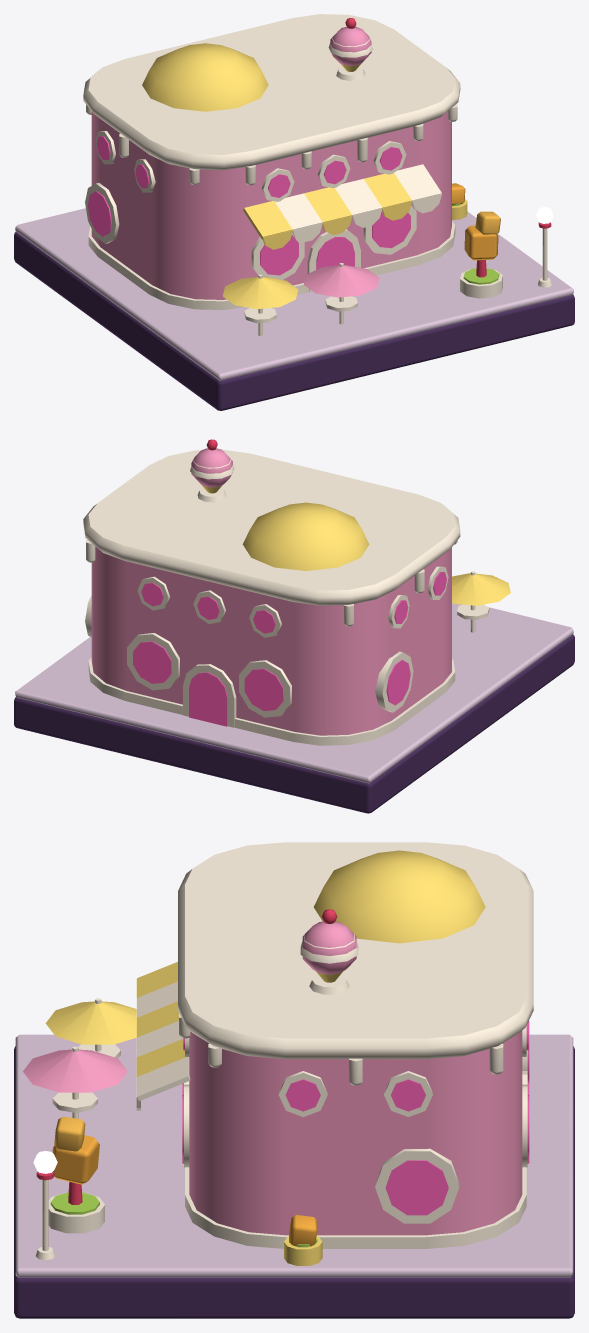
File: modern_building_3_1Level_Demo.glb
3 renders of one model, top to bottom at view 1: azimuth 30°, elevation 25°; view 2: azimuth 150°, elevation 25°; view 3: azimuth 270°, elevation 25°, orthographic. The views are drawn at different scales.
Parts seen in each view (by area): view 1: MB3_1_Cream1, MB3_1_Pink1, MB3_1_Paving, MB3_1_Base, MB3_1_Lemon1, MB3_1_Glass1, MB3_1_Leaf, MB3_1_Leaf2; view 2: MB3_1_Cream1, MB3_1_Pink1, MB3_1_Paving, MB3_1_Base, MB3_1_Lemon1, MB3_1_Glass1; view 3: MB3_1_Cream1, MB3_1_Pink1, MB3_1_Paving, MB3_1_Base, MB3_1_Lemon1, MB3_1_Glass1, MB3_1_Leaf, MB3_1_Leaf2, MB3_1_Grass, MB3_1_Cherry1.
Boxes of the visible parts, bbox=[...] form: MB3_1_Cream1: bbox=[83, 14, 551, 335]; MB3_1_Pink1: bbox=[91, 26, 451, 299]; MB3_1_Paving: bbox=[15, 208, 573, 380]; MB3_1_Base: bbox=[14, 232, 574, 410]; MB3_1_Lemon1: bbox=[142, 43, 467, 309]; MB3_1_Glass1: bbox=[87, 136, 410, 275]; MB3_1_Leaf: bbox=[452, 183, 498, 260]; MB3_1_Leaf2: bbox=[475, 211, 500, 234]; MB3_1_Cream1: bbox=[83, 449, 489, 745]; MB3_1_Pink1: bbox=[91, 448, 451, 735]; MB3_1_Paving: bbox=[15, 603, 573, 783]; MB3_1_Base: bbox=[14, 634, 574, 813]; MB3_1_Lemon1: bbox=[201, 484, 510, 605]; MB3_1_Glass1: bbox=[133, 572, 446, 726]; MB3_1_Cream1: bbox=[35, 842, 533, 1260]; MB3_1_Pink1: bbox=[23, 921, 522, 1235]; MB3_1_Paving: bbox=[15, 1034, 573, 1277]; MB3_1_Base: bbox=[14, 1046, 574, 1318]; MB3_1_Lemon1: bbox=[45, 850, 485, 1265]; MB3_1_Glass1: bbox=[182, 1021, 529, 1215]; MB3_1_Leaf: bbox=[52, 1135, 317, 1246]; MB3_1_Leaf2: bbox=[54, 1116, 85, 1151]; MB3_1_Grass: bbox=[50, 1192, 317, 1247]; MB3_1_Cherry1: bbox=[36, 909, 337, 1204].
Bounding box in the file's own units: 3.2 × 2.13 × 3.2.
